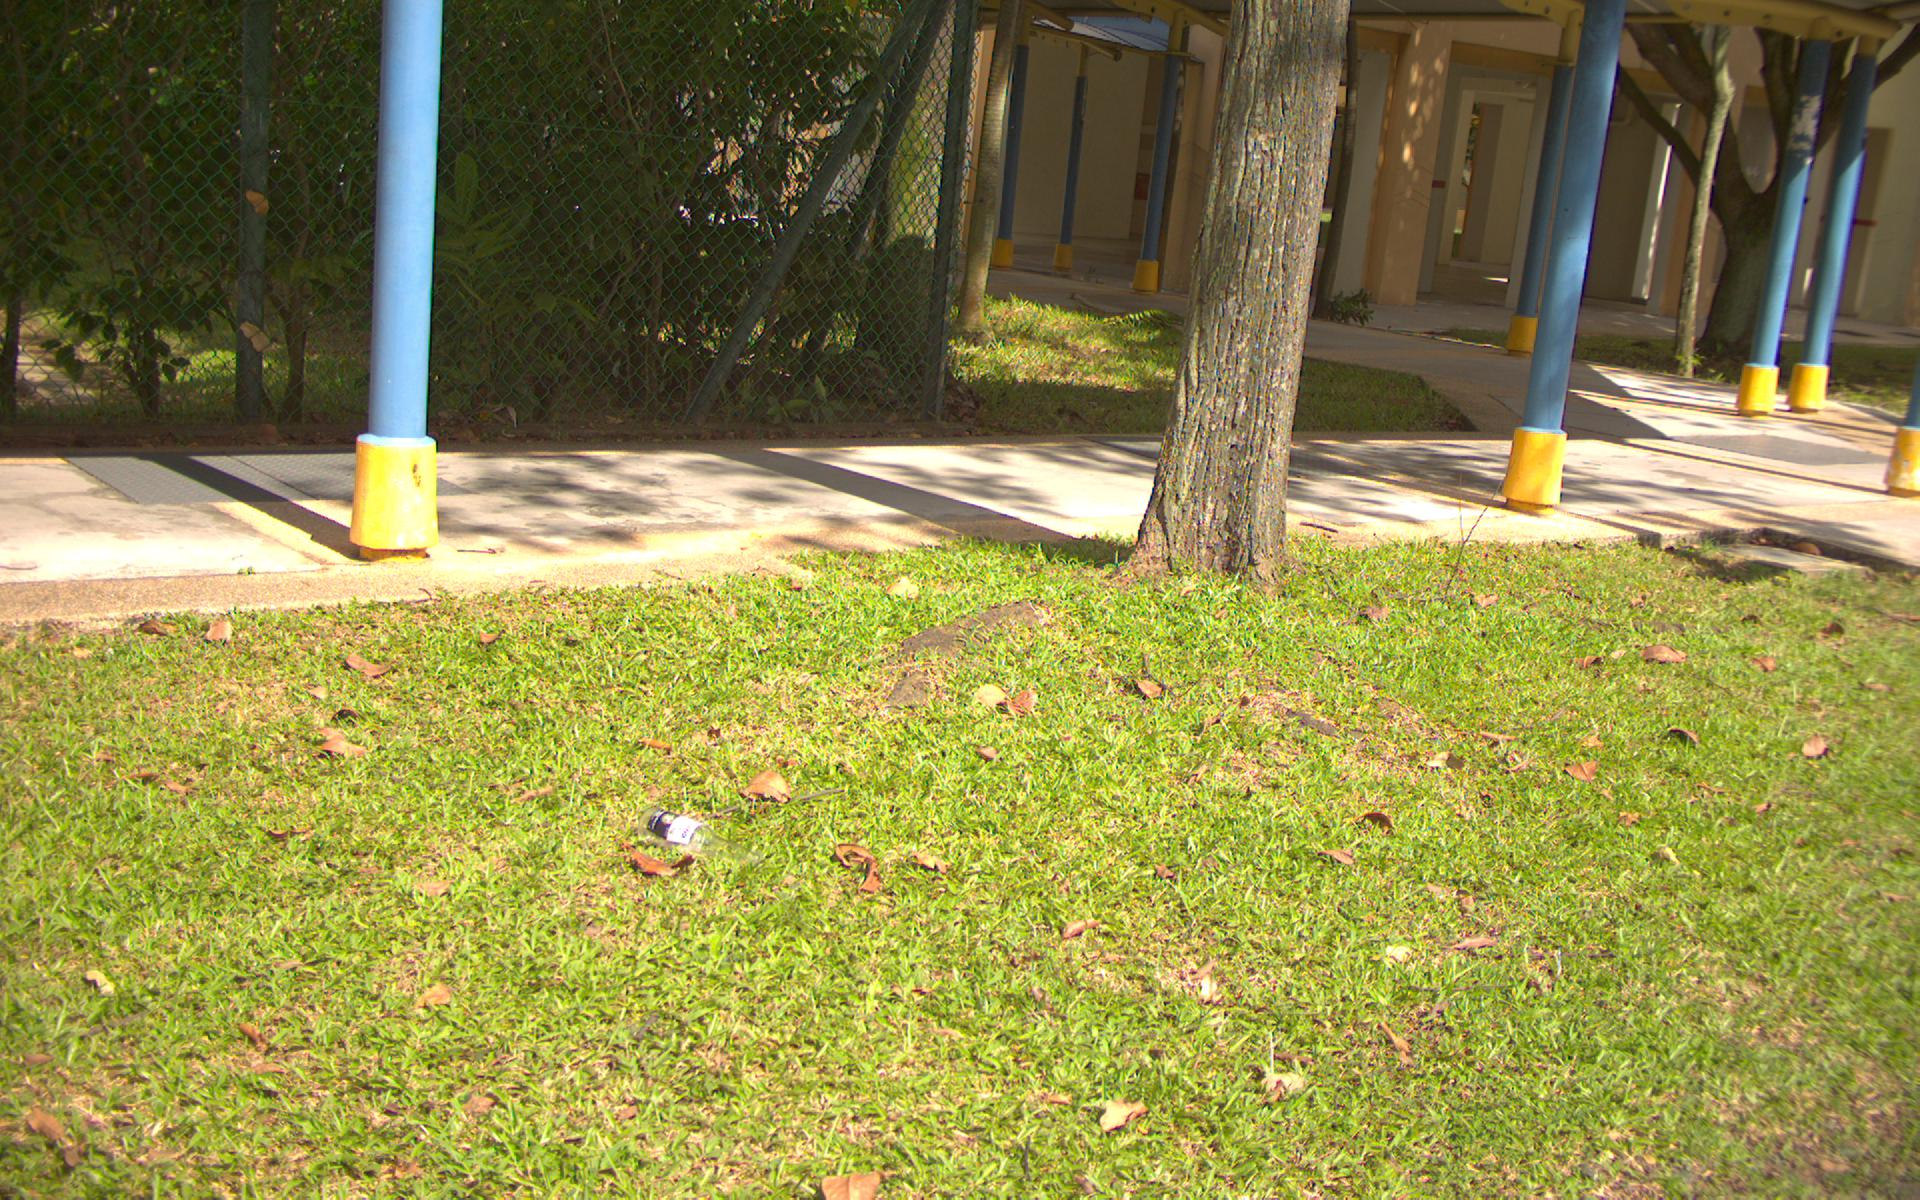pathway_low: (12, 451, 1920, 525)
road_turf_low: (12, 628, 1920, 1200)
